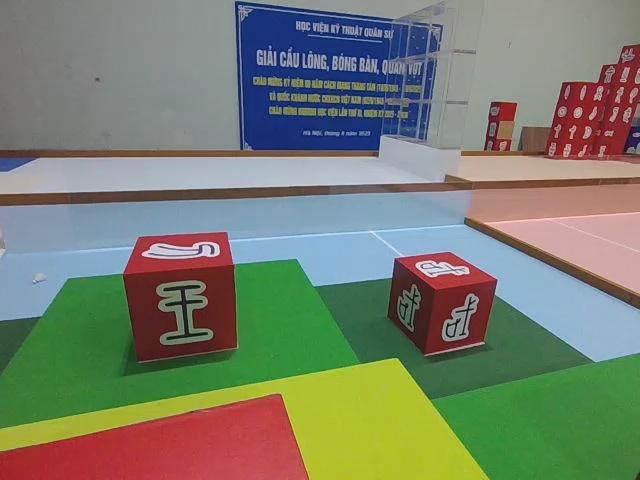R2 Fake: (119, 228, 240, 365)
R2 Real: (384, 249, 502, 358)
